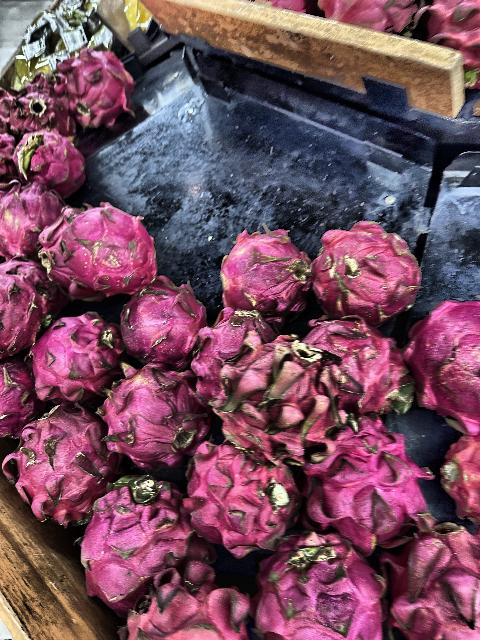buah-naga-belum-matang: (212, 341, 360, 457), (97, 358, 213, 468), (0, 178, 68, 260)
buah-naga-matang: (79, 468, 215, 616), (301, 418, 437, 548), (253, 542, 401, 640), (178, 438, 304, 550), (312, 216, 422, 334), (374, 524, 480, 640), (13, 400, 115, 520), (112, 560, 256, 640), (30, 214, 168, 292), (404, 300, 480, 436), (208, 220, 314, 316), (34, 314, 128, 404), (118, 281, 212, 363), (46, 53, 146, 127), (1, 259, 61, 353), (13, 133, 85, 190), (2, 86, 84, 136), (0, 359, 44, 441)
